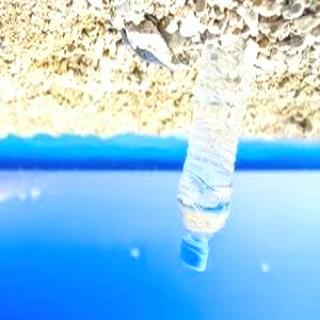Plastic: (173, 40, 258, 272)
